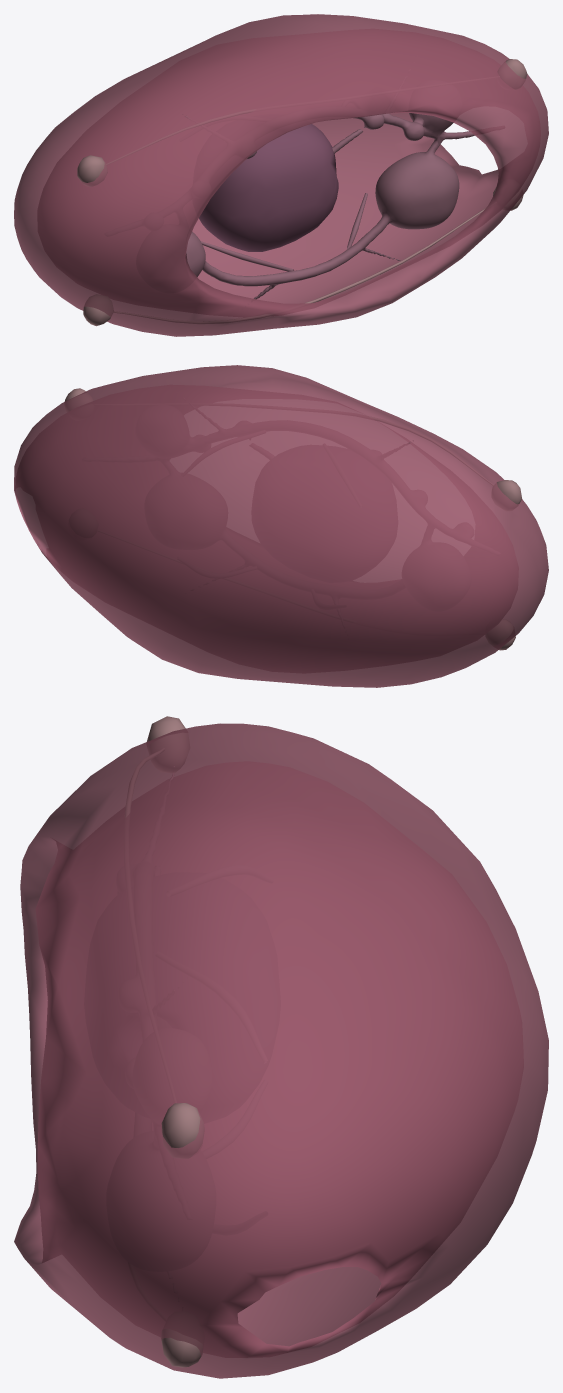
Rendered from cellular_interior_lod0.glb.
3 renders of one model, top to bottom at view 1: azimuth 30°, elevation 25°; view 2: azimuth 150°, elevation 25°; view 3: azimuth 270°, elevation 25°, orthographic. The views are drawn at different scales.
Parts seen in each view (by area): view 1: intact soft cortex.001, irregular nuclear envelope.001, Connected_Endoplasmic_Anatomy.001, tensioned cortical fiber.003, cortical anchor.006, cortical anchor.004, cortical anchor.005, cytoplasmic suspension web.006, tensioned cortical fiber.002; view 2: intact soft cortex.001, cortical anchor.004, cortical anchor.006, cortical anchor.005; view 3: intact soft cortex.001, cortical anchor.005, cortical anchor.004, cortical anchor.007.
Part boxes in pixels (x1,y1,x2,y2): intact soft cortex.001: (14, 14, 548, 336); irregular nuclear envelope.001: (199, 124, 338, 251); Connected_Endoplasmic_Anatomy.001: (182, 113, 474, 299); tensioned cortical fiber.003: (114, 208, 485, 323); cortical anchor.006: (83, 294, 113, 326); cortical anchor.004: (77, 155, 107, 186); cortical anchor.005: (497, 59, 527, 89); cytoplasmic suspension web.006: (200, 241, 293, 271); tensioned cortical fiber.002: (106, 109, 255, 164); intact soft cortex.001: (14, 365, 548, 687); cortical anchor.004: (491, 480, 521, 511); cortical anchor.006: (485, 619, 515, 650); cortical anchor.005: (64, 388, 92, 412); intact soft cortex.001: (14, 723, 548, 1378); cortical anchor.005: (161, 1103, 204, 1158); cortical anchor.004: (147, 716, 189, 772); cortical anchor.007: (161, 1329, 202, 1367).
Size of the model in its own units: 5.8 by 3.07 by 2.96.
